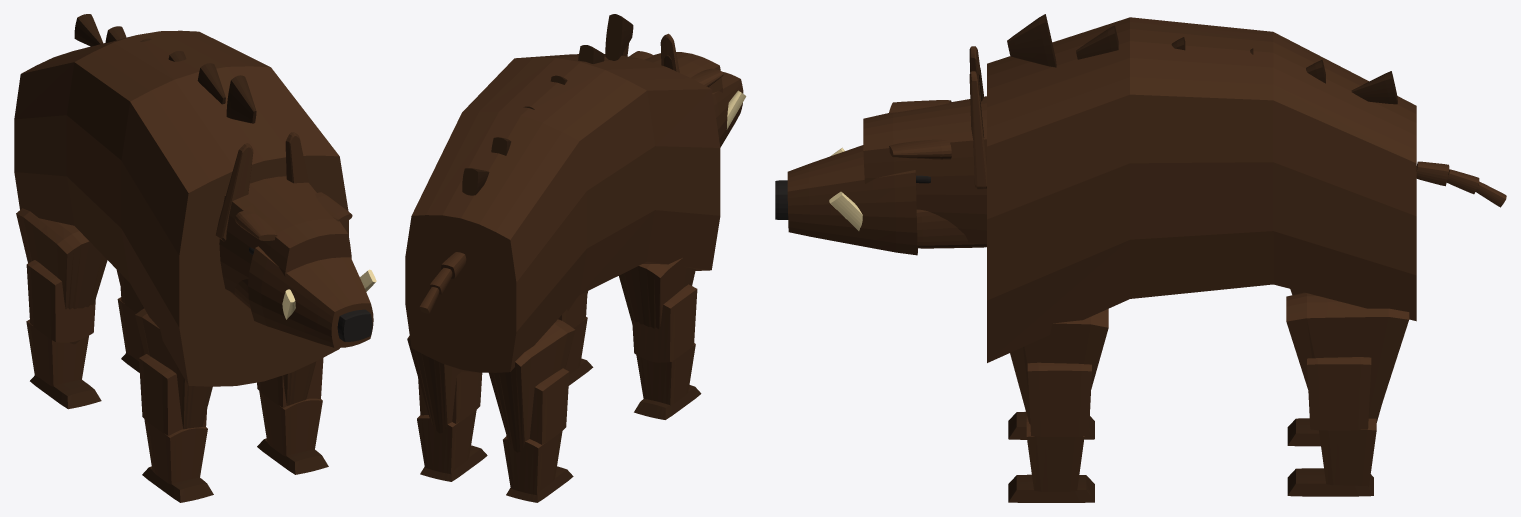
The model's file is terranova_wildschwein.obj.
The picture shows the model from 3 angles, left to right: view 1: azimuth 30°, elevation 25°; view 2: azimuth 150°, elevation 25°; view 3: azimuth 270°, elevation 25°; orthographic projection. The views are drawn at different scales.
Parts seen in each view (by area): view 1: Körper, Vorderbein, Kopf, Schnauze, Hinterbein, Keule, Schultermasse, Borstenkamm, Ohr, Vorderhuf, Hinterhuf, Brauenwulst (+2 smaller); view 2: Körper, Hinterbein, Keule, Vorderbein, Schultermasse, Borstenkamm, Hinterhuf, Vorderhuf, Schnauze, Schwanz, Kopf, Brauenwulst (+1 smaller); view 3: Körper, Kopf, Schnauze, Keule, Hinterbein, Vorderbein, Schultermasse, Borstenkamm, Hinterhuf, Vorderhuf, Ohr, Wangenmasse (+2 smaller).
Boxes of the visible parts, box(x1,y1,x2,y2) form: Körper: box(14, 30, 348, 386); Vorderbein: box(139, 354, 323, 484); Kopf: box(219, 176, 351, 293); Schnauze: box(248, 246, 373, 347); Hinterbein: box(26, 260, 144, 386); Keule: box(16, 208, 120, 344); Schultermasse: box(135, 308, 316, 429); Borstenkamm: box(74, 14, 256, 123); Ohr: box(216, 132, 308, 241); Vorderhuf: box(142, 438, 328, 502); Hinterhuf: box(30, 352, 139, 409); Brauenwulst: box(235, 192, 352, 240); Körper: box(405, 54, 720, 372); Hinterbein: box(417, 368, 569, 494); Keule: box(407, 319, 575, 452); Vorderbein: box(558, 284, 697, 405); Schultermasse: box(567, 258, 695, 329); Borstenkamm: box(462, 14, 633, 195); Hinterhuf: box(420, 445, 573, 502); Vorderhuf: box(568, 358, 701, 419); Schnauze: box(712, 71, 743, 147); Schwanz: box(419, 252, 466, 313); Kopf: box(644, 52, 722, 92); Brauenwulst: box(629, 51, 723, 87); Körper: box(987, 17, 1416, 362); Kopf: box(863, 96, 986, 244); Schnauze: box(787, 145, 917, 255); Keule: box(1286, 289, 1409, 422); Hinterbein: box(1307, 357, 1376, 487); Vorderbein: box(1026, 362, 1091, 491); Schultermasse: box(1010, 309, 1108, 423); Borstenkamm: box(1007, 14, 1397, 104); Hinterhuf: box(1287, 418, 1373, 496); Vorderhuf: box(1008, 411, 1094, 502); Ohr: box(969, 46, 986, 189); Wangenmasse: box(916, 209, 986, 248).
Bounding box in the file's own units: 0.5129 × 1.15 × 1.7.
